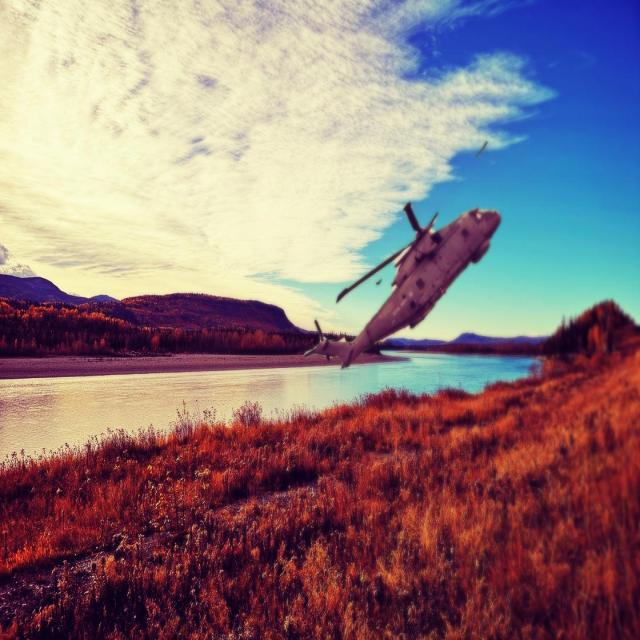airplane: (303, 200, 501, 369)
